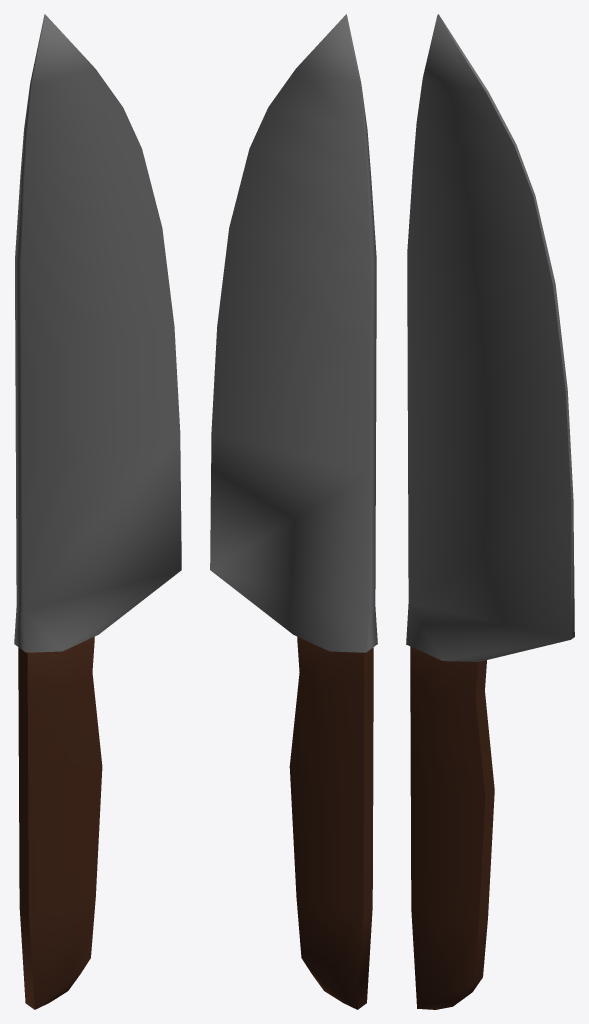
The model's file is prop_KitchenKnife.fbx.
3 views of the same model, side by side, from view 1: azimuth 30°, elevation 25°; view 2: azimuth 150°, elevation 25°; view 3: azimuth 330°, elevation 25° (orthographic).
Parts seen in each view (by area): view 1: KitchenKnife; view 2: KitchenKnife; view 3: KitchenKnife.
Part boxes in pixels (x1=…): KitchenKnife: x1=14, y1=14, x2=181, y2=1009; KitchenKnife: x1=210, y1=14, x2=377, y2=1009; KitchenKnife: x1=406, y1=14, x2=574, y2=1009.
Bounding box in the file's own units: 65.72 × 384 × 12.23.
